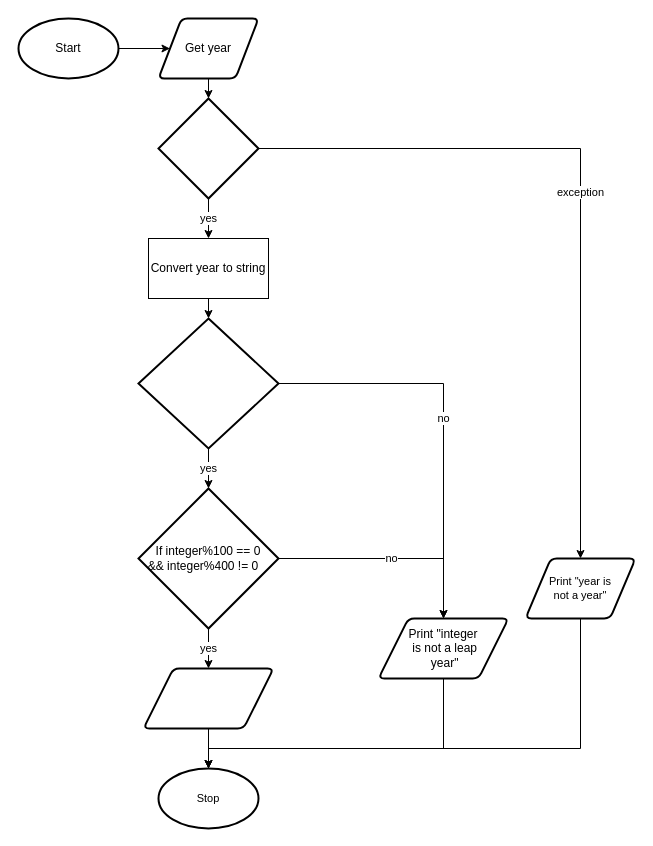
Some shapes in this 653 by 846 pixel diagram are drawn without their labels. Here are the shapes that lost their labels. From the top down, the centre of each, then its label:
point 208,148: Try
point 208,383: If integer%4 != 0
point 208,698: Print "integer is a leap year"
